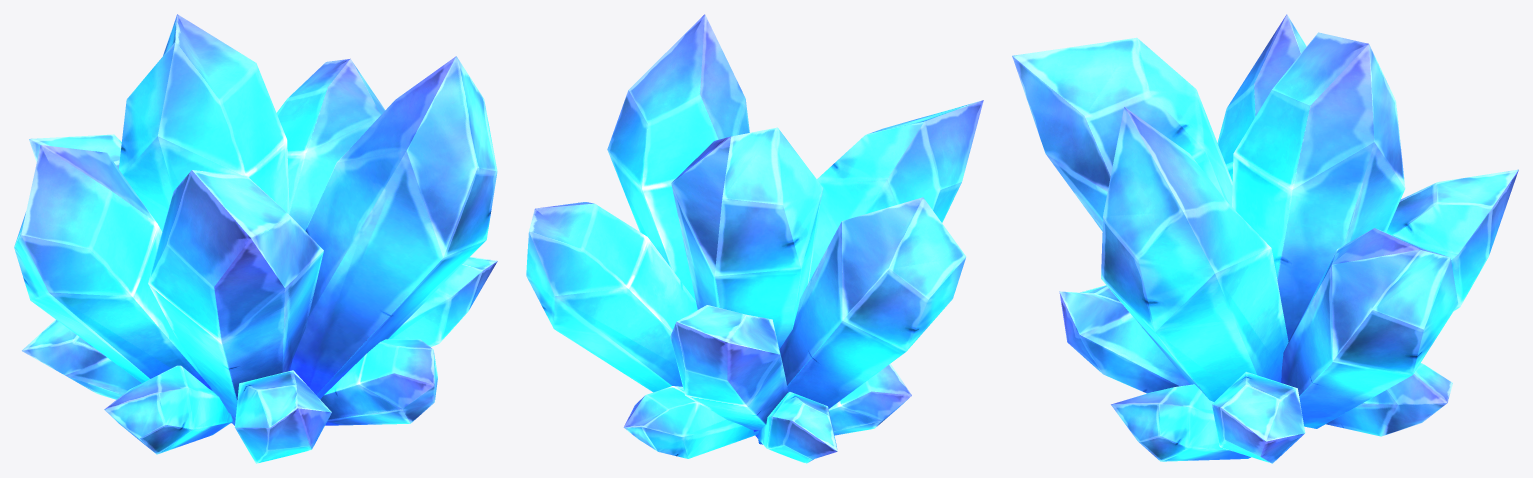
File: crystal_big.glb
The picture shows the model from 3 angles, left to right: view 1: azimuth 30°, elevation 25°; view 2: azimuth 150°, elevation 25°; view 3: azimuth 270°, elevation 25°; orthographic projection. The views are drawn at different scales.
Parts seen in each view (by area): view 1: crystal_big; view 2: crystal_big; view 3: crystal_big.
Part boxes in pixels (x1,y1,x2,y2): crystal_big: [14, 14, 497, 463]; crystal_big: [526, 14, 983, 463]; crystal_big: [1012, 14, 1518, 463].
Size of the model in its own units: 107 by 84.58 by 99.64.
1 material, 1 textured.
